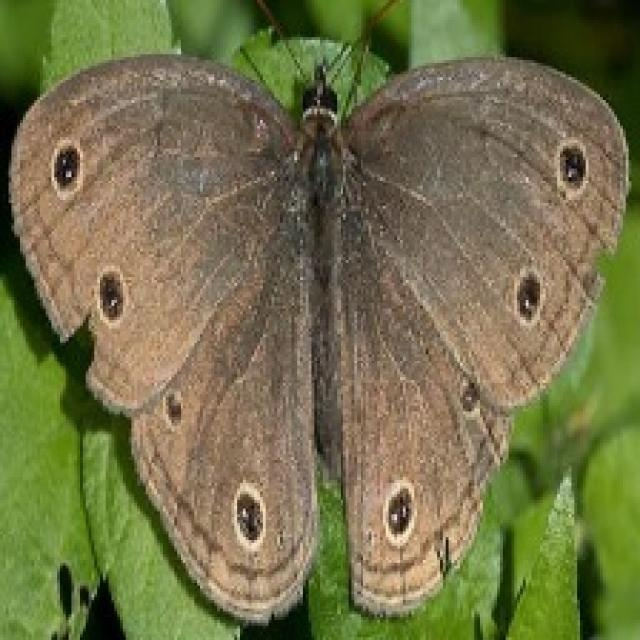butterfly: (6, 0, 631, 626)
